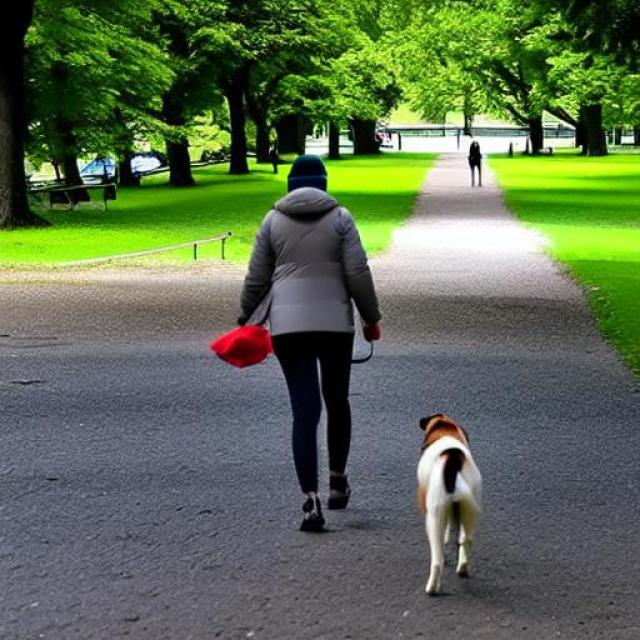Unleashed_Dog: (304, 329, 482, 599)
